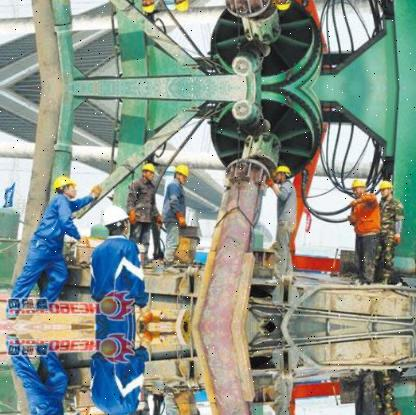helmet: (105, 202, 132, 238), (54, 173, 78, 197), (274, 163, 294, 185), (173, 162, 192, 185), (350, 178, 370, 197), (380, 177, 396, 200), (140, 162, 159, 181), (173, 0, 193, 13), (140, 0, 160, 13), (273, 0, 294, 12)
